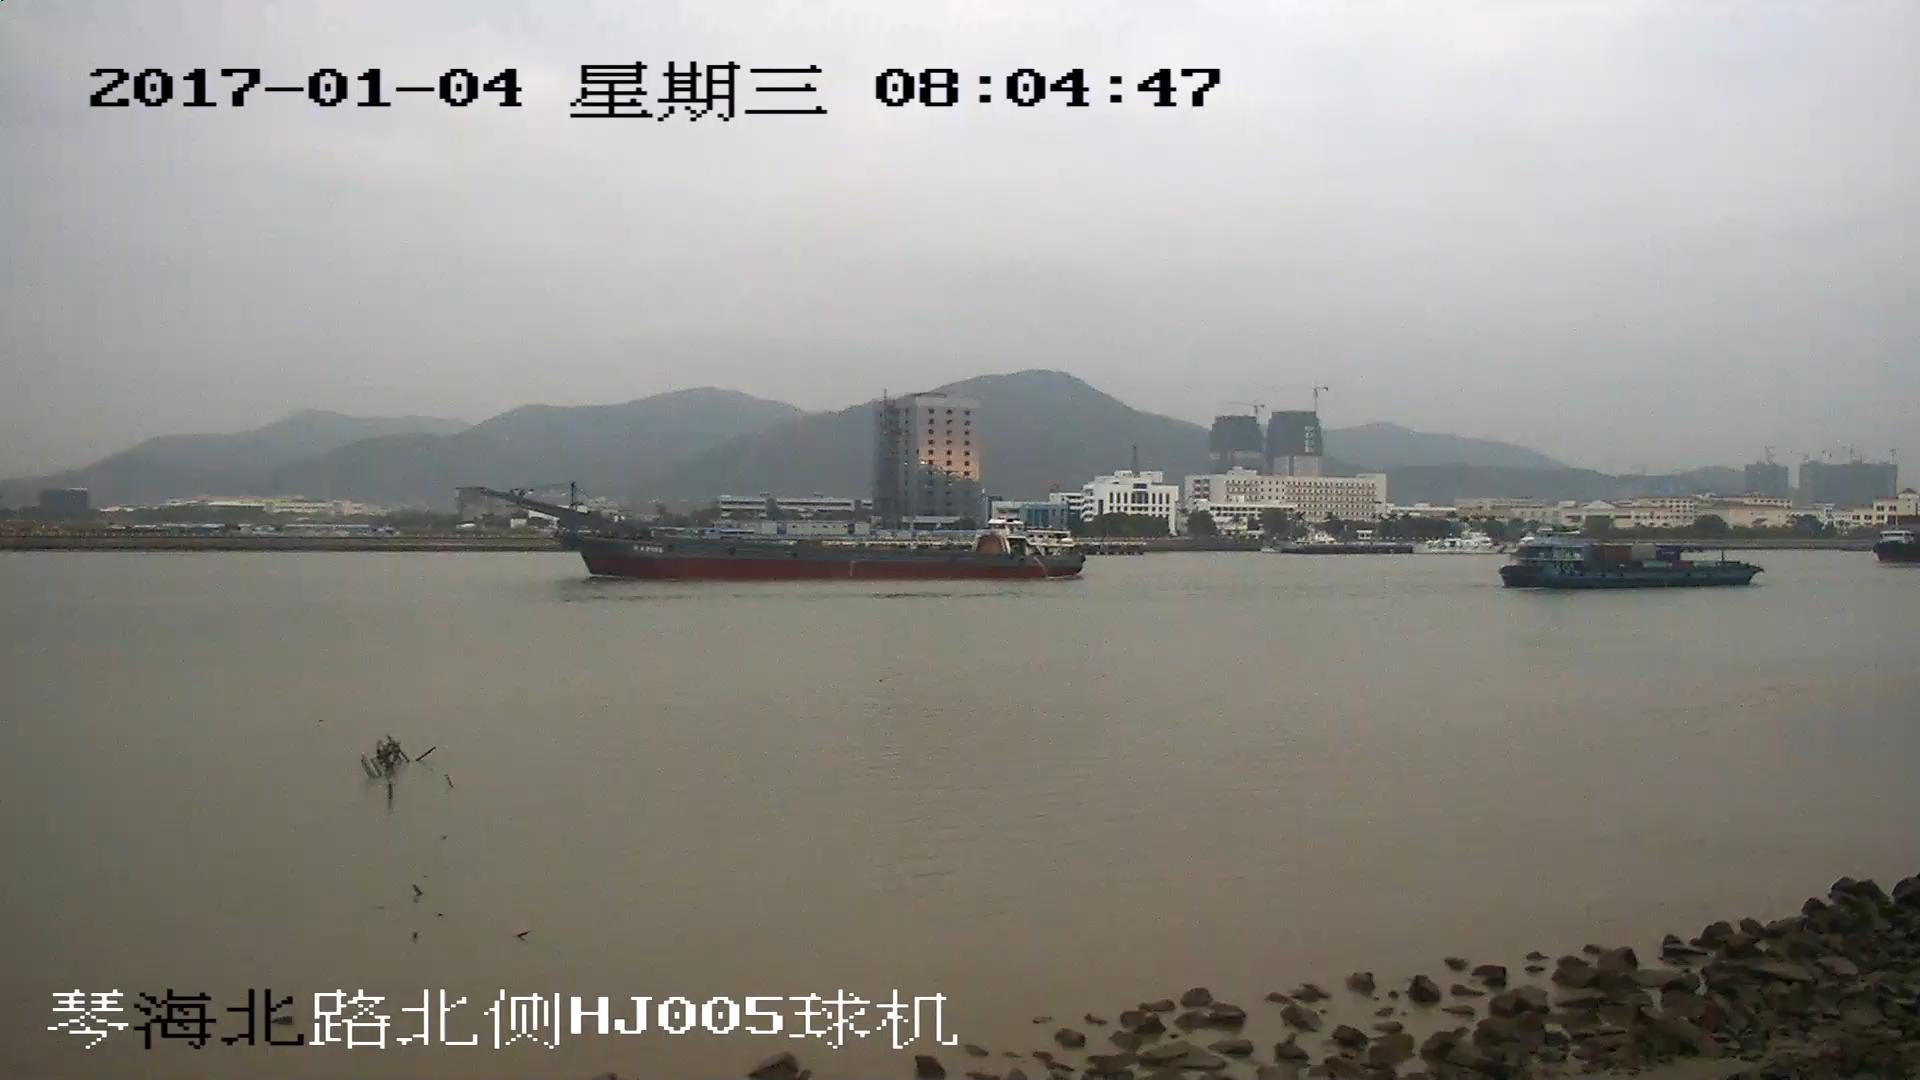Ship: (487, 488, 1087, 578), (1501, 541, 1753, 588)
